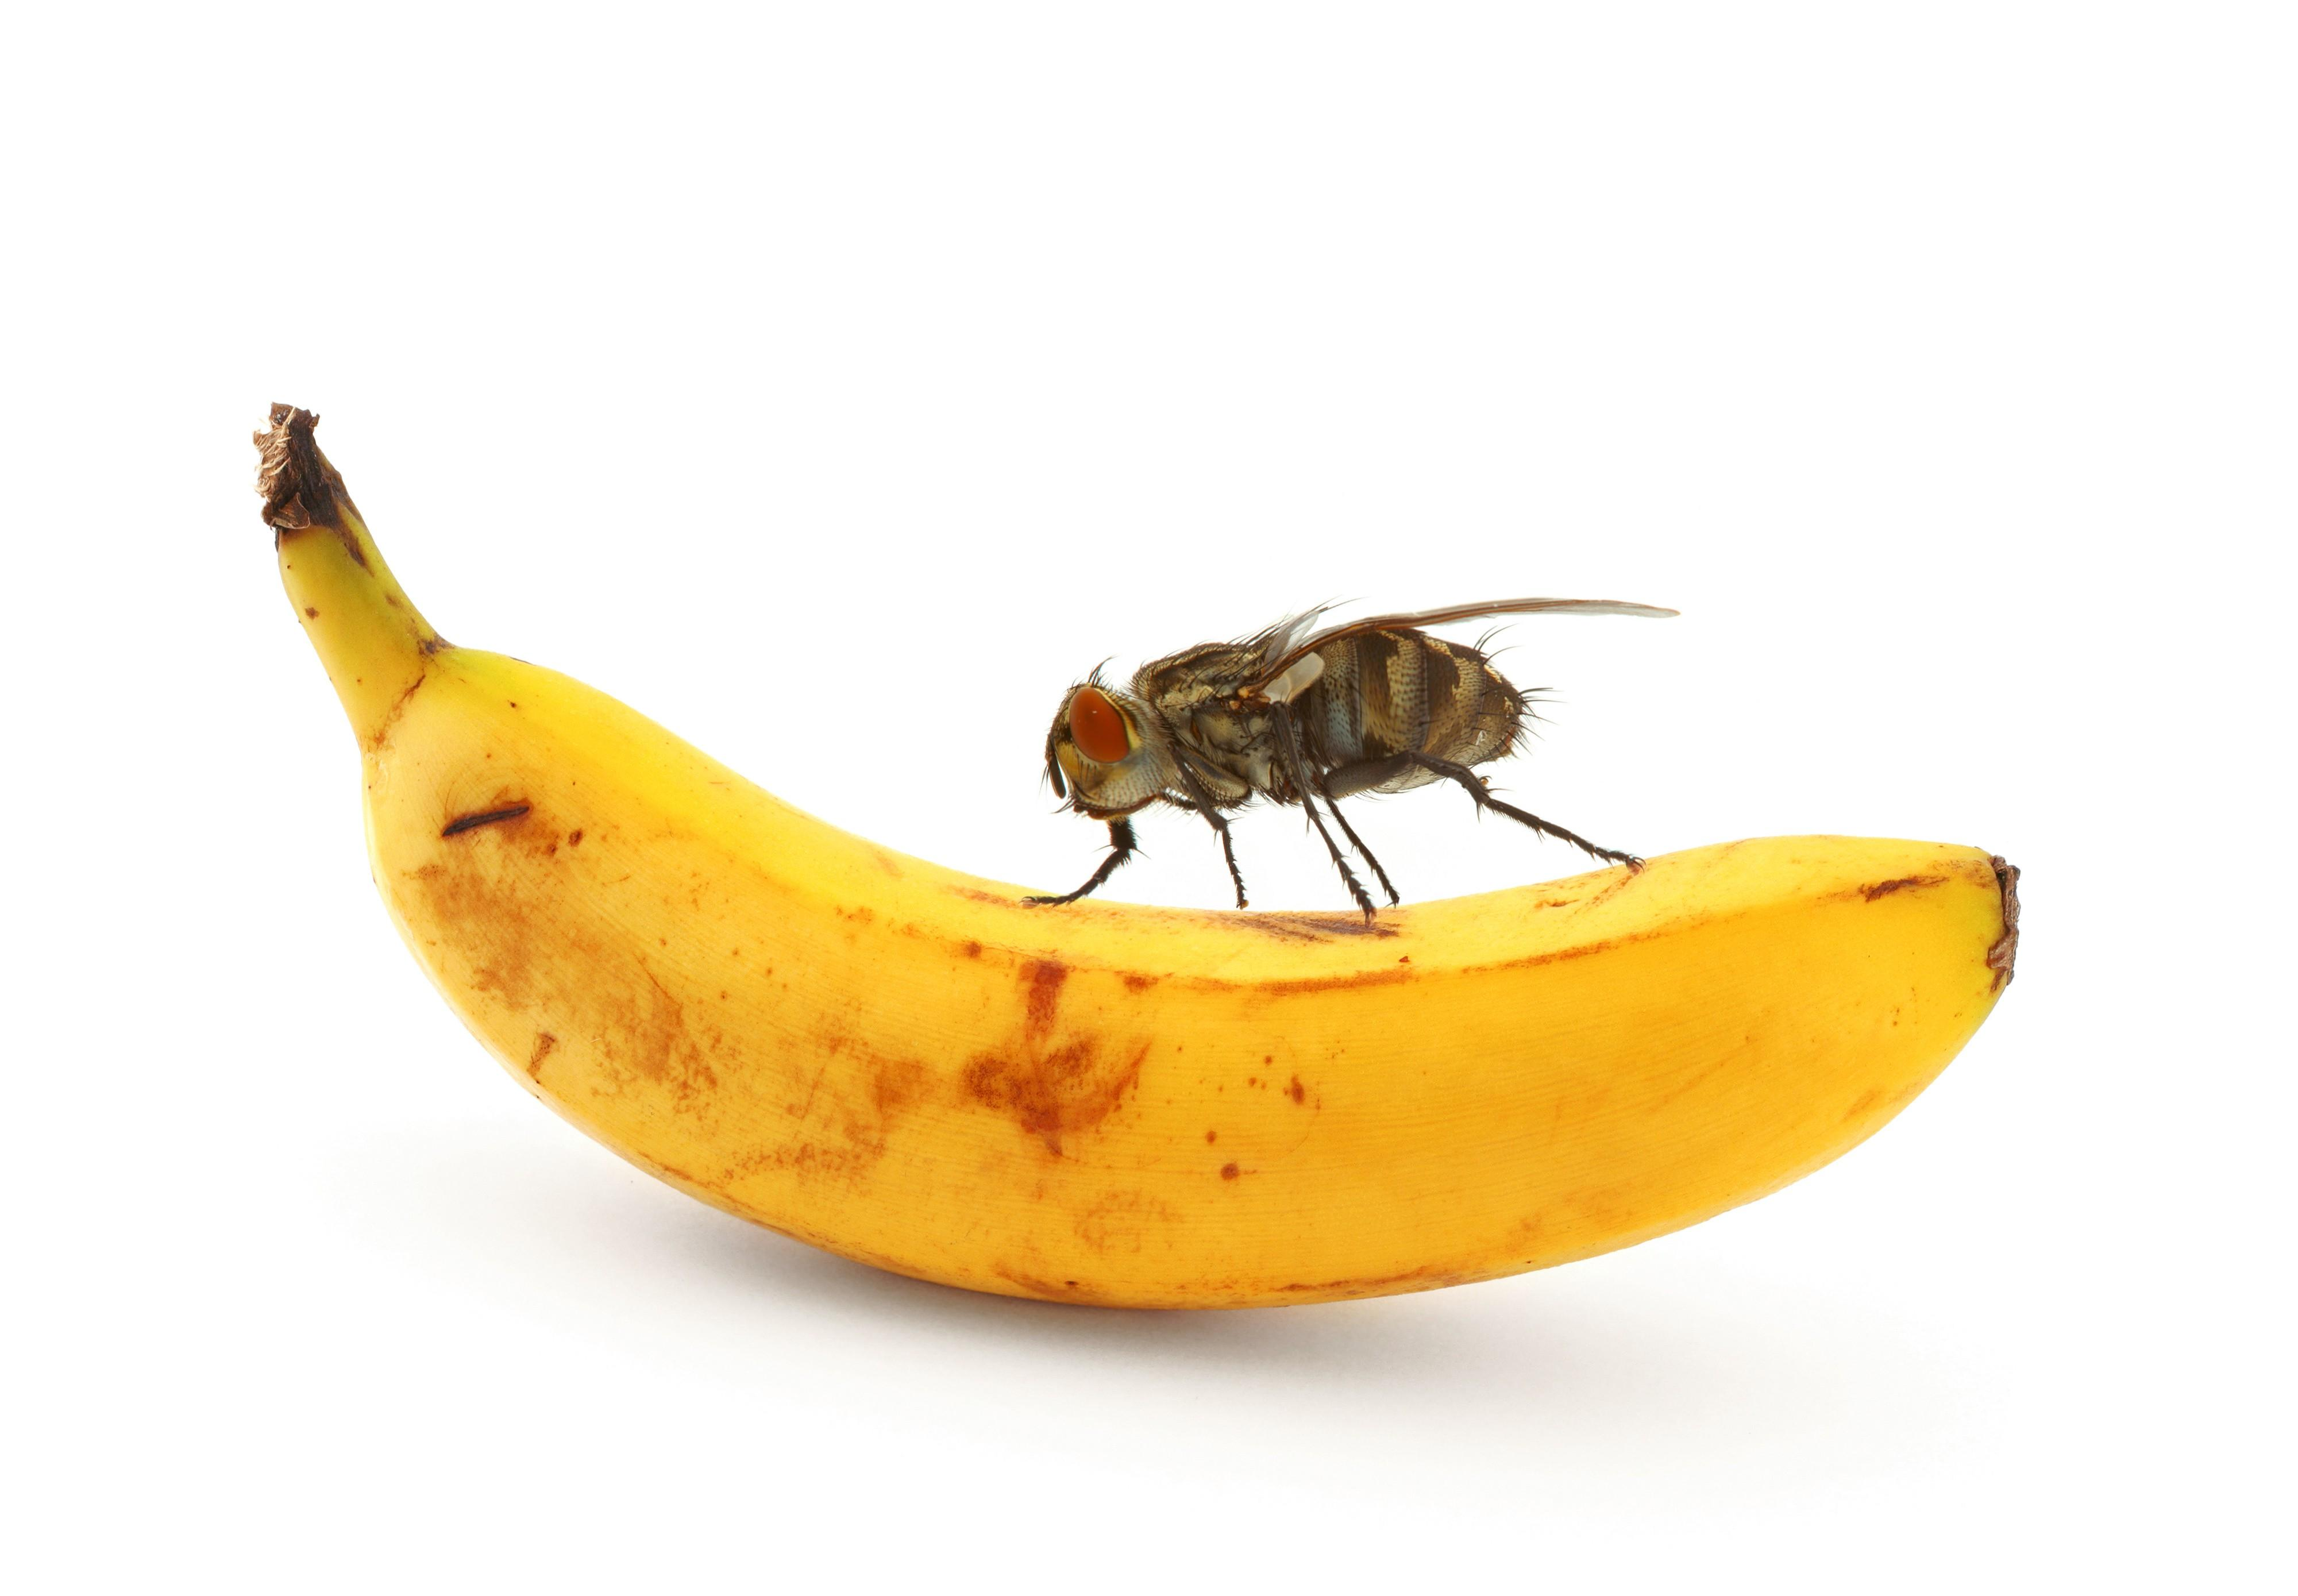Fruit fly: (1008, 610, 1903, 952)
